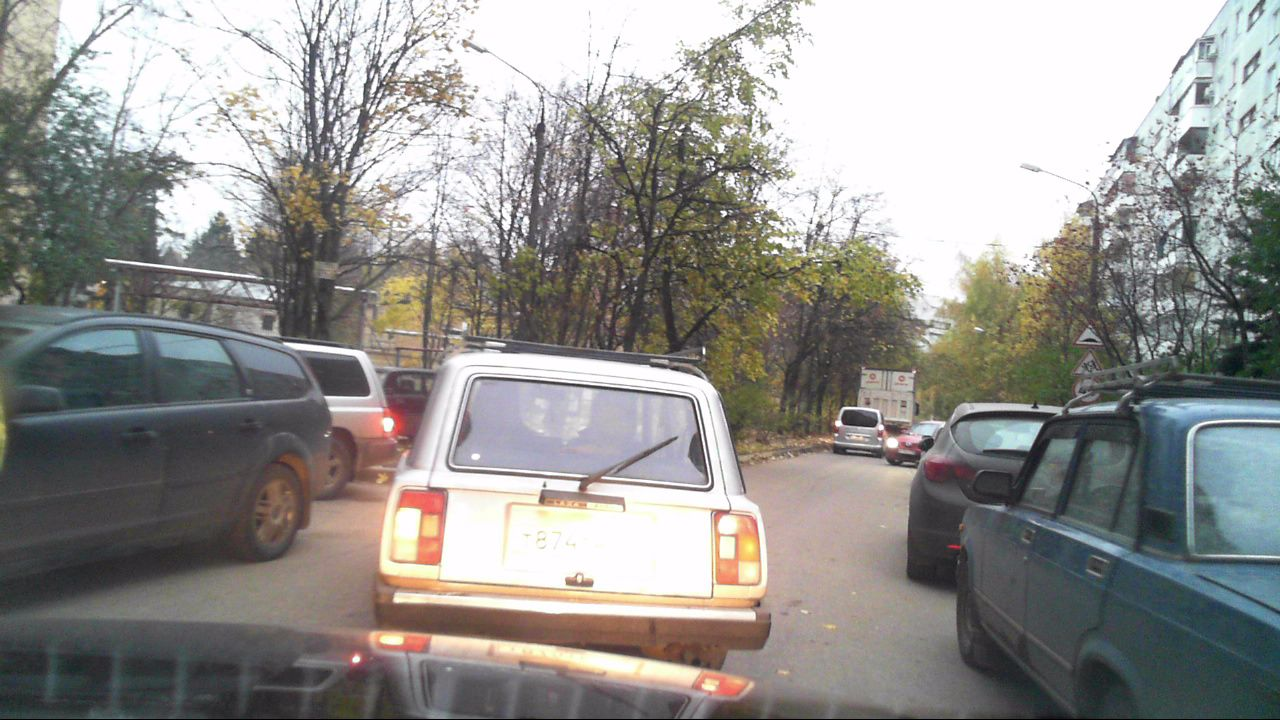speed_warning_40: (1073, 376, 1100, 402)
